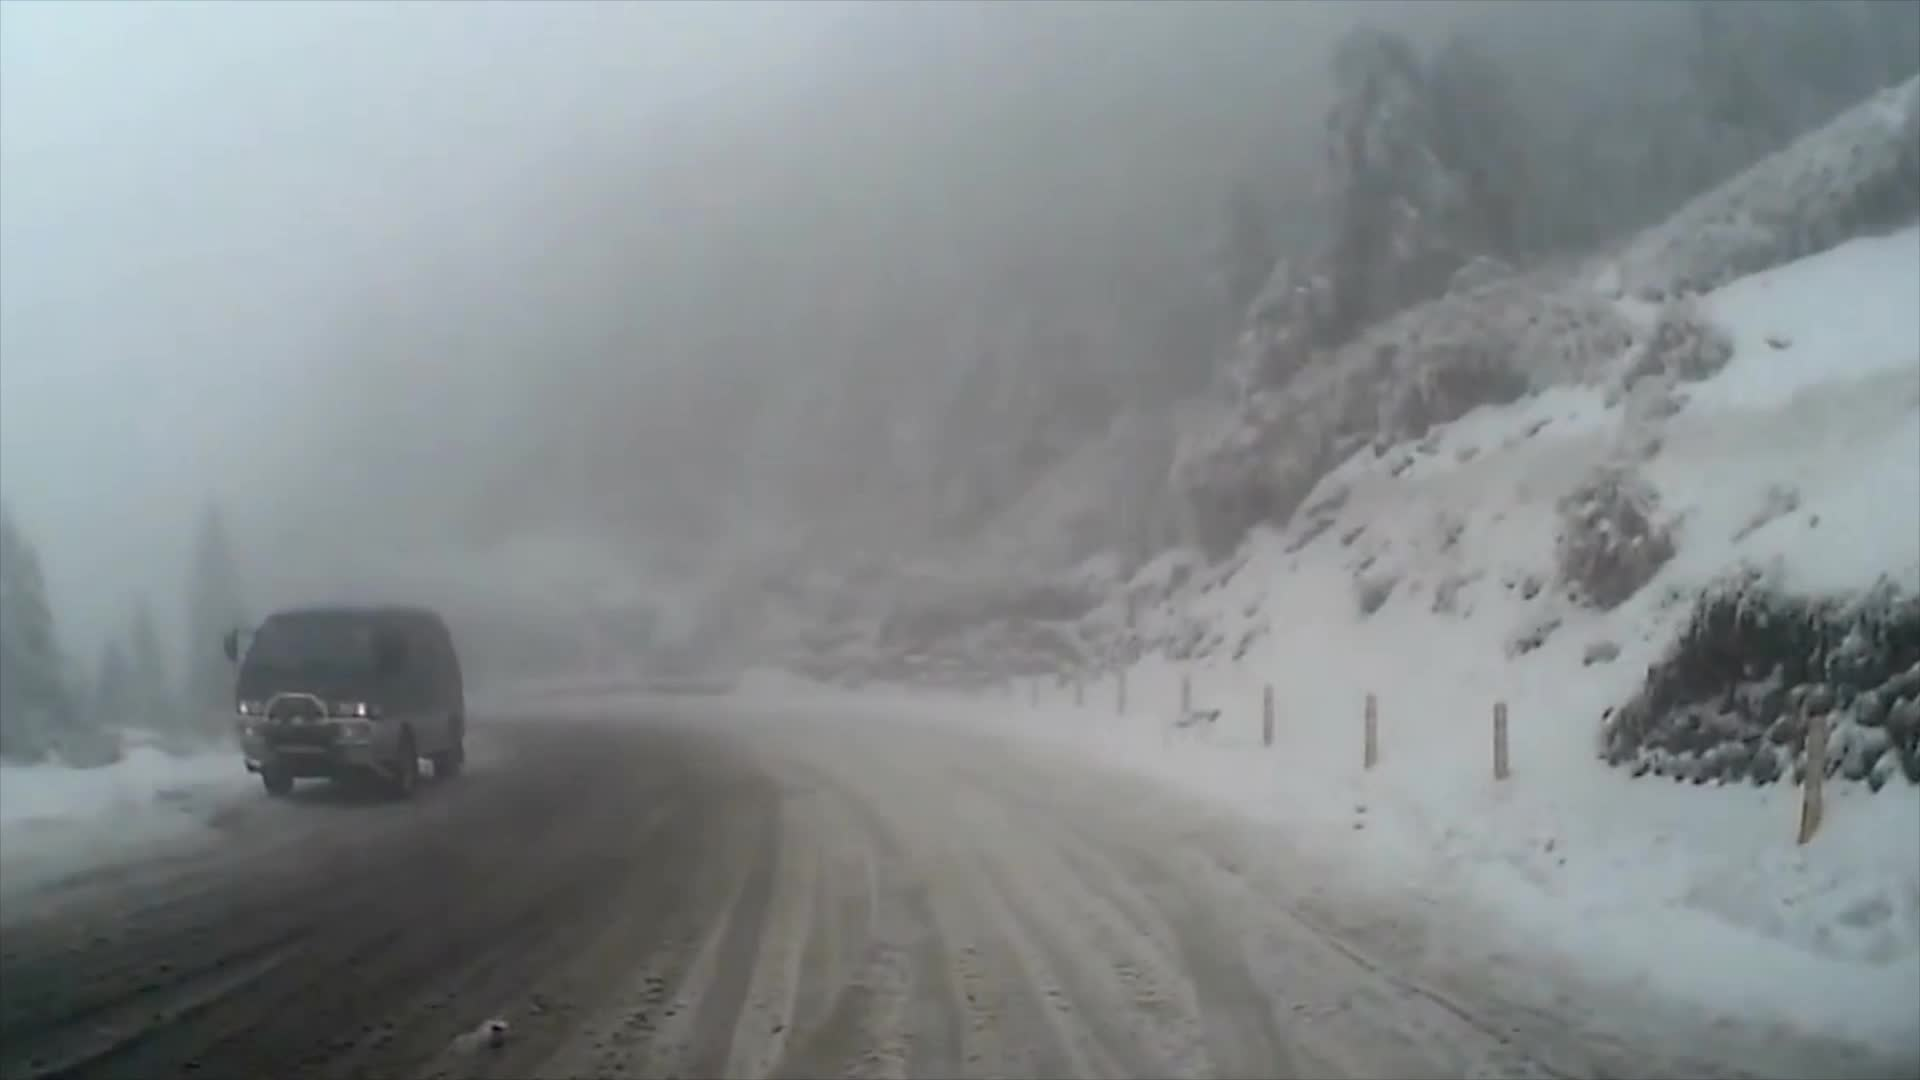vehicle: (222, 603, 465, 802)
